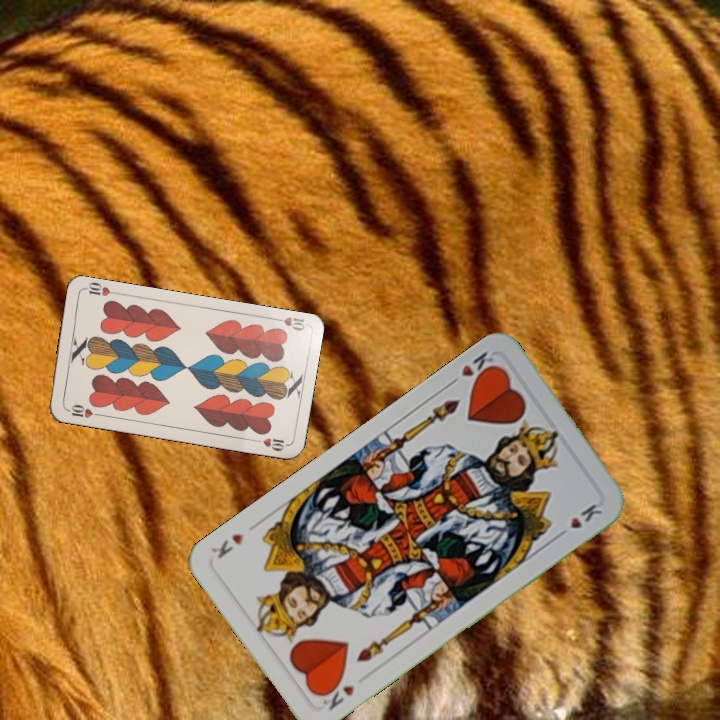H10: (62, 400, 102, 421), (268, 313, 308, 333)
HK: (444, 347, 501, 389), (316, 675, 358, 713)
